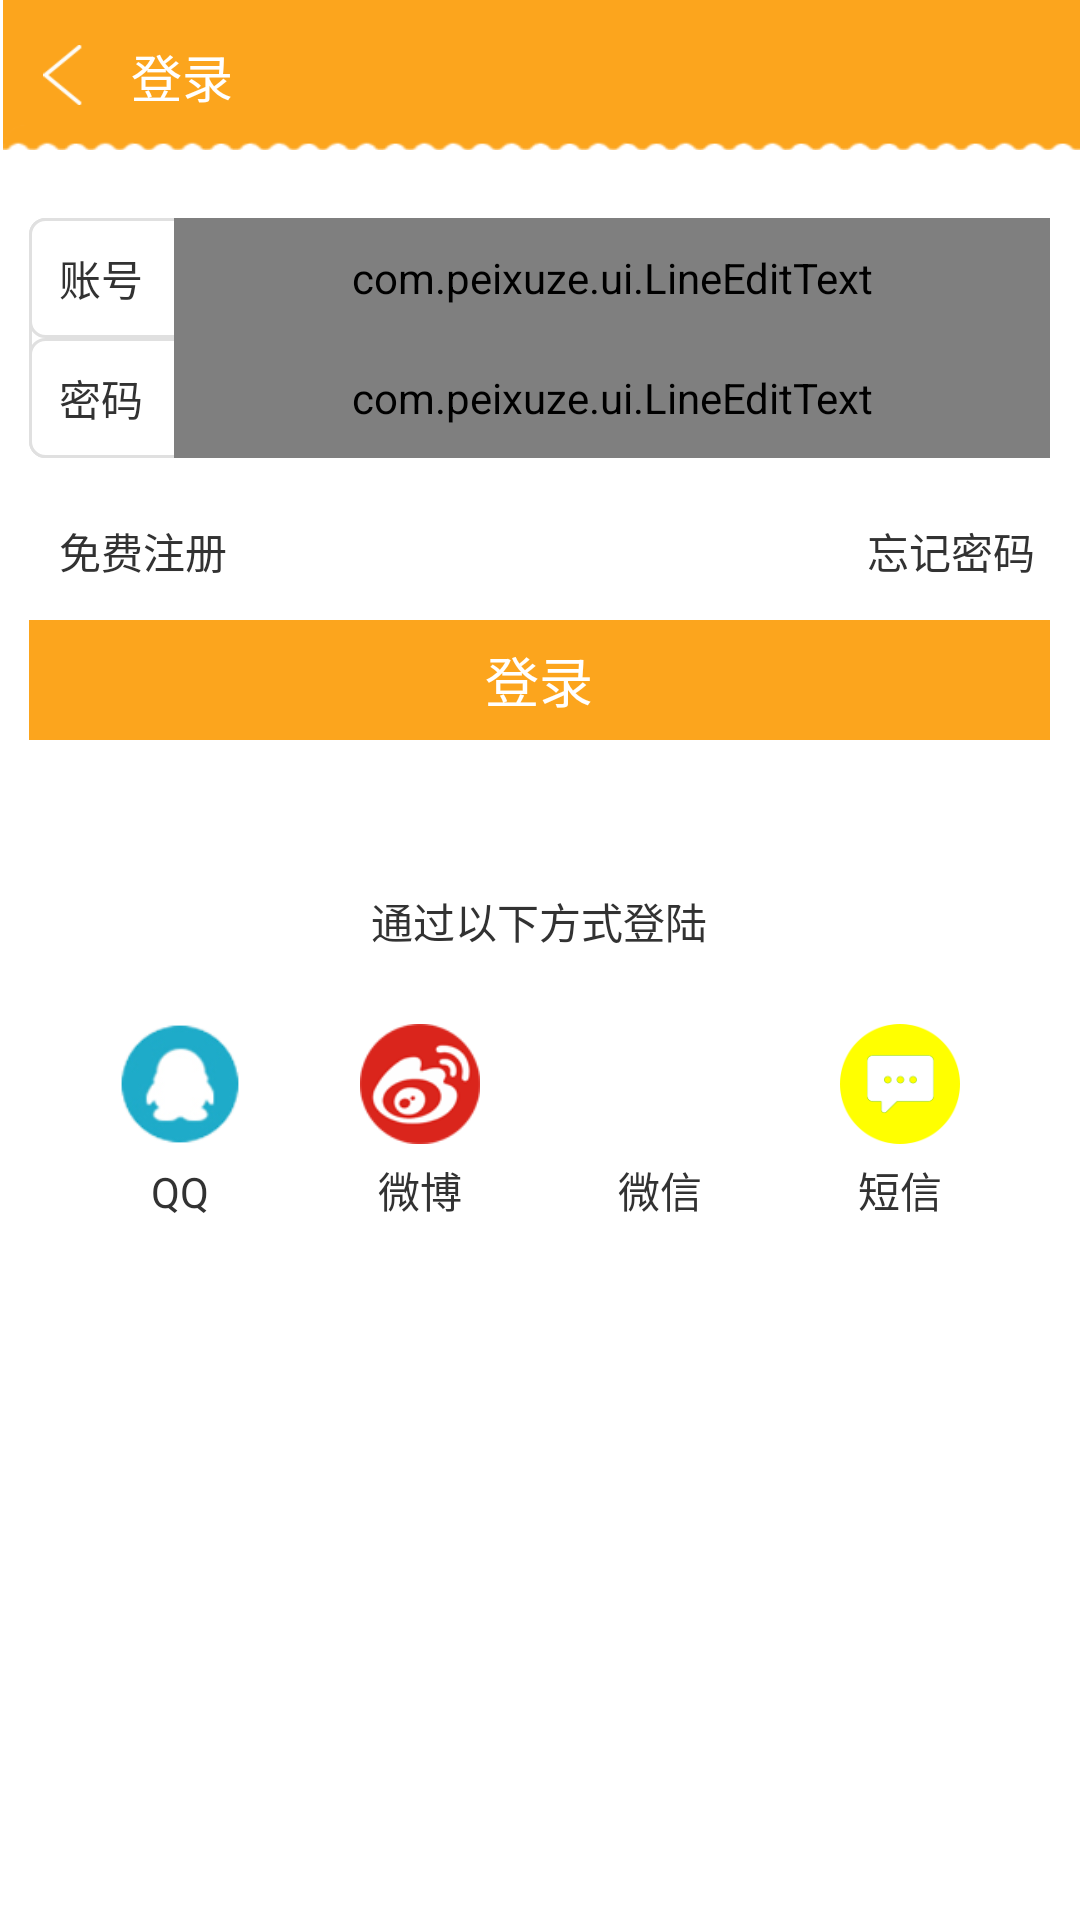

Named icons in this screenshot (1080×1920) and their centers, point (x, y):
imageview arrow back: point (62, 75)
